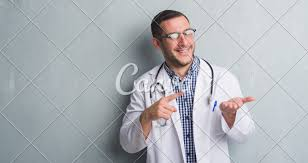white_male: (159, 17, 198, 64)
